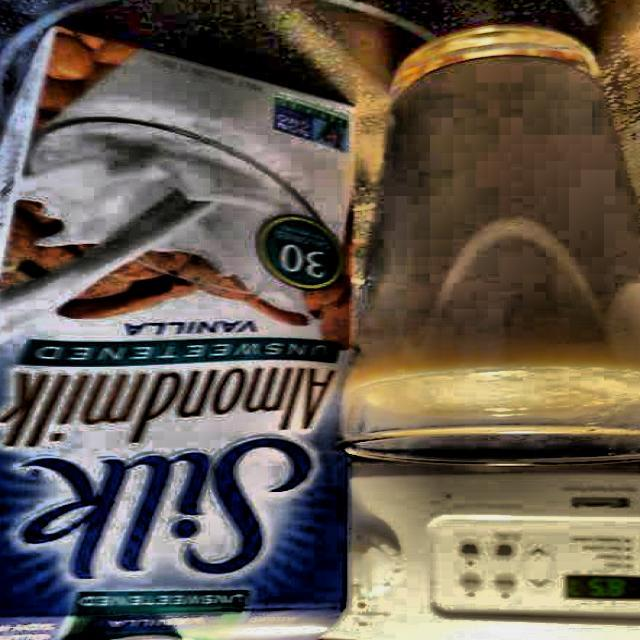cardboard: (0, 26, 361, 640)
